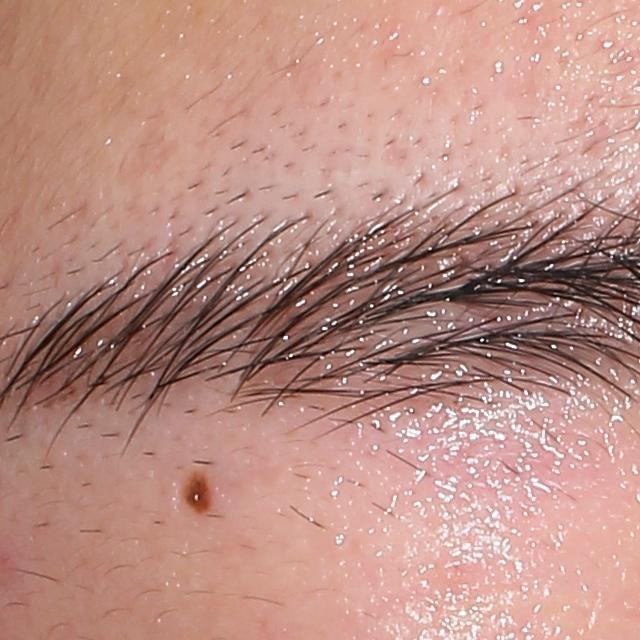nevus: (176, 474, 212, 521)
